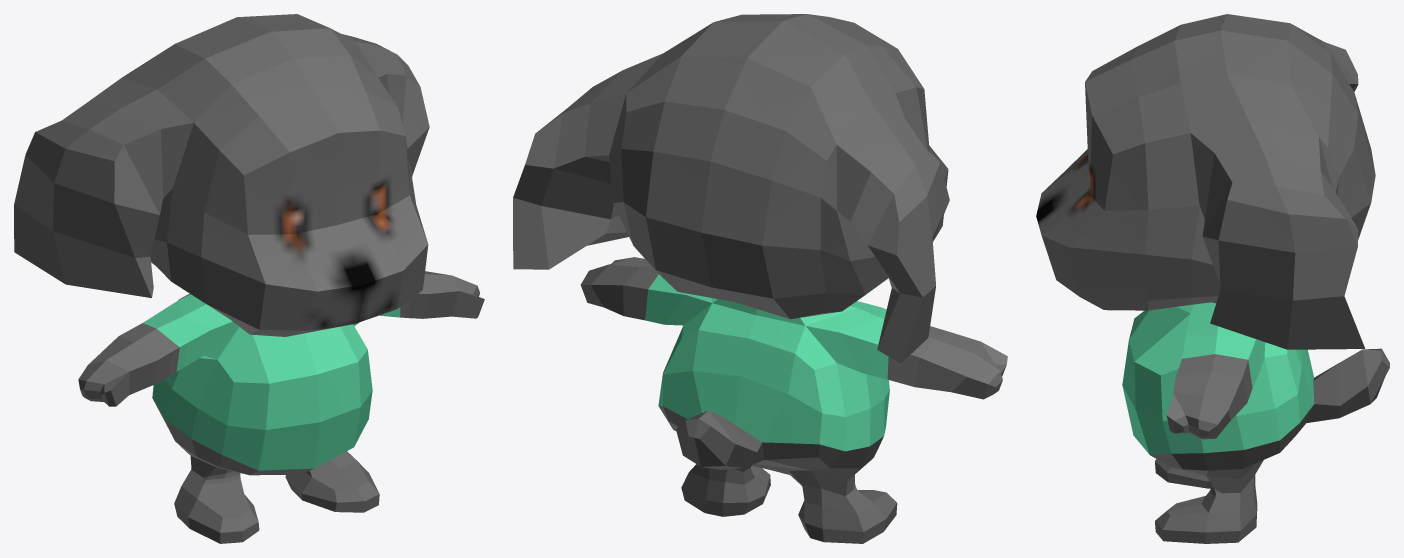
The model's file is Caniche.fbx.
The picture shows the model from 3 angles, left to right: view 1: azimuth 30°, elevation 25°; view 2: azimuth 150°, elevation 25°; view 3: azimuth 270°, elevation 25°; orthographic projection. The views are drawn at different scales.
Visible parts, largest first — view 1: Caniche; view 2: Caniche; view 3: Caniche.
Boxes of the visible parts, x1,y1,x2,y2 form: Caniche: (14,14,484,543); Caniche: (513,14,1007,543); Caniche: (1036,14,1389,543).
Size of the model in its own units: 2.43 by 2.77 by 1.88.
Materials: 1 (1 with a texture image).
